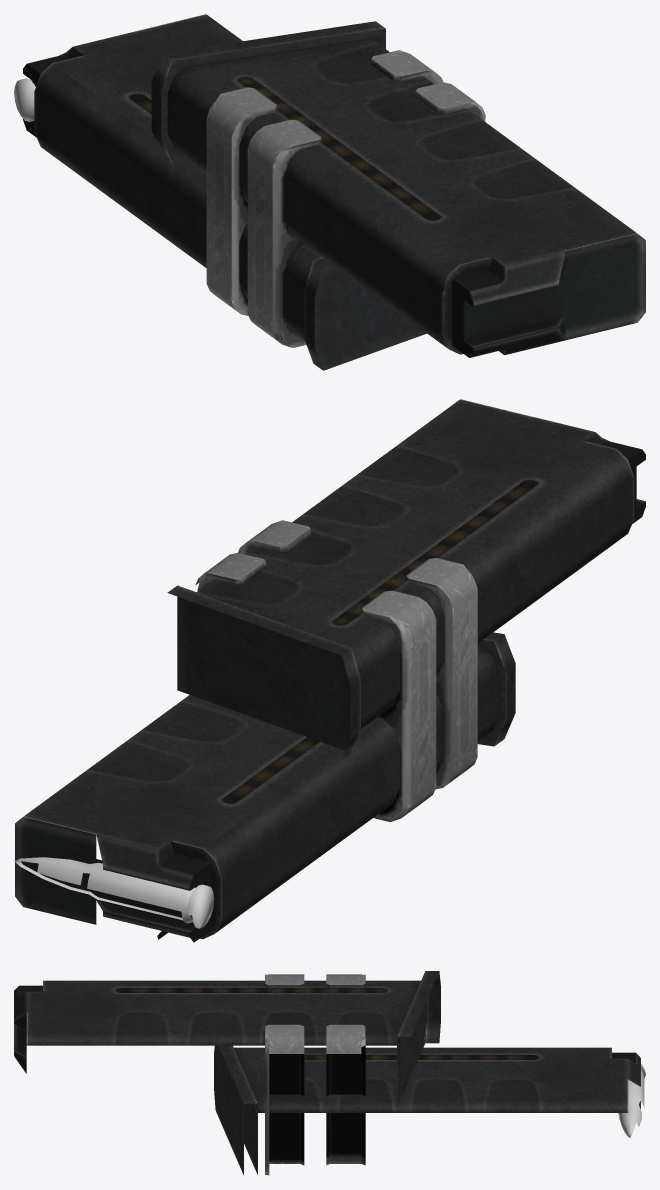
The model's file is t6_attach_fastmag_peacekeeper_view_LOD0.obj.
3 renders of one model, top to bottom at view 1: azimuth 30°, elevation 25°; view 2: azimuth 150°, elevation 25°; view 3: azimuth 270°, elevation 25°, orthographic. The views are drawn at different scales.
Visible parts, largest first — view 1: mtl_t6_wpn_smg_peacekeeper_camo4, mtl_t6_wpn_smg_peacekeeper_camo3, mtl_t6_wpn_smg_peacekeeper, mtl_t6_attach_bullet; view 2: mtl_t6_wpn_smg_peacekeeper_camo4, mtl_t6_wpn_smg_peacekeeper_camo3, mtl_t6_wpn_smg_peacekeeper, mtl_t6_attach_bullet; view 3: mtl_t6_wpn_smg_peacekeeper_camo4, mtl_t6_wpn_smg_peacekeeper_camo3, mtl_t6_wpn_smg_peacekeeper, mtl_t6_attach_bullet.
Boxes of the visible parts, box(x1,y1,x2,y2) form: mtl_t6_wpn_smg_peacekeeper_camo4: box(23, 14, 645, 370); mtl_t6_wpn_smg_peacekeeper_camo3: box(206, 50, 485, 347); mtl_t6_wpn_smg_peacekeeper: box(151, 21, 565, 370); mtl_t6_attach_bullet: box(14, 78, 35, 121); mtl_t6_wpn_smg_peacekeeper_camo4: box(15, 399, 645, 942); mtl_t6_wpn_smg_peacekeeper_camo3: box(195, 520, 477, 821); mtl_t6_wpn_smg_peacekeeper: box(96, 585, 515, 939); mtl_t6_attach_bullet: box(14, 857, 214, 928); mtl_t6_wpn_smg_peacekeeper_camo4: box(14, 980, 640, 1175); mtl_t6_wpn_smg_peacekeeper_camo3: box(265, 974, 365, 1175); mtl_t6_wpn_smg_peacekeeper: box(14, 971, 640, 1103); mtl_t6_attach_bullet: box(618, 1064, 645, 1137).
Size of the model in its own units: 6.1 by 5.6 by 22.53.
